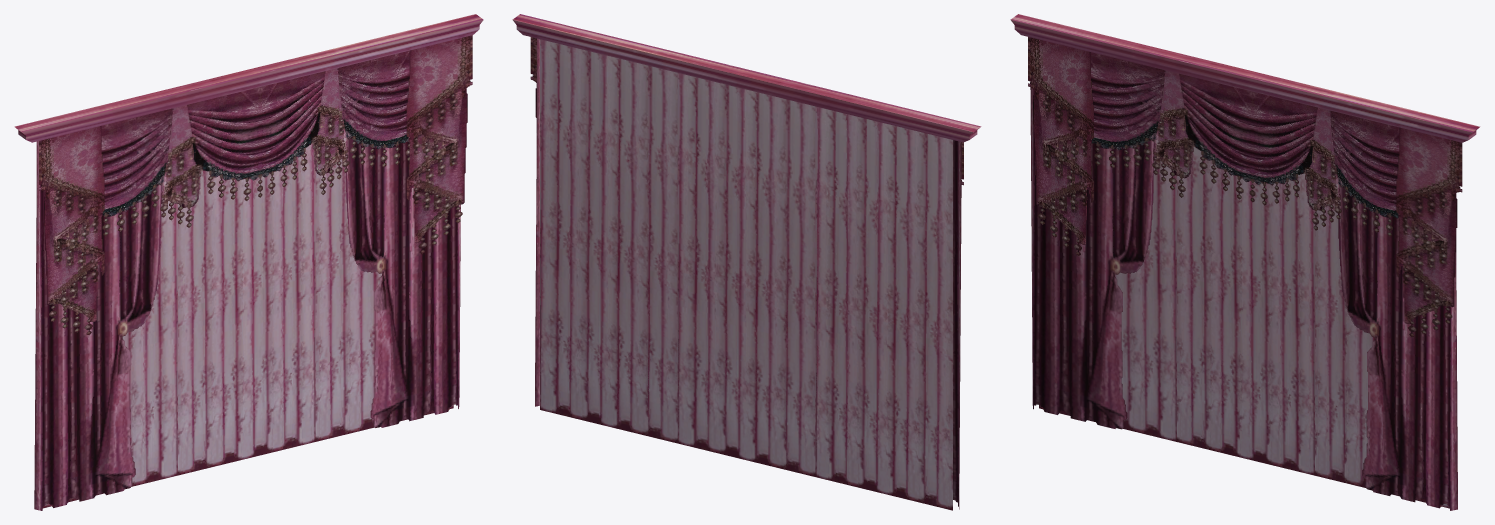
The model's file is furni_0200765.FBX.
3 views of the same model, side by side, from view 1: azimuth 30°, elevation 25°; view 2: azimuth 150°, elevation 25°; view 3: azimuth 330°, elevation 25° (orthographic).
Parts seen in each view (by area): view 1: furni_0200765; view 2: furni_0200765; view 3: furni_0200765.
Boxes of the visible parts, left/top/right/bottom form: furni_0200765: left=14, top=14, right=483, bottom=510; furni_0200765: left=512, top=14, right=981, bottom=510; furni_0200765: left=1010, top=14, right=1480, bottom=510.
Bounding box in the file's own units: 351 × 280 × 10.4.
Materials: 2 (2 with a texture image).
